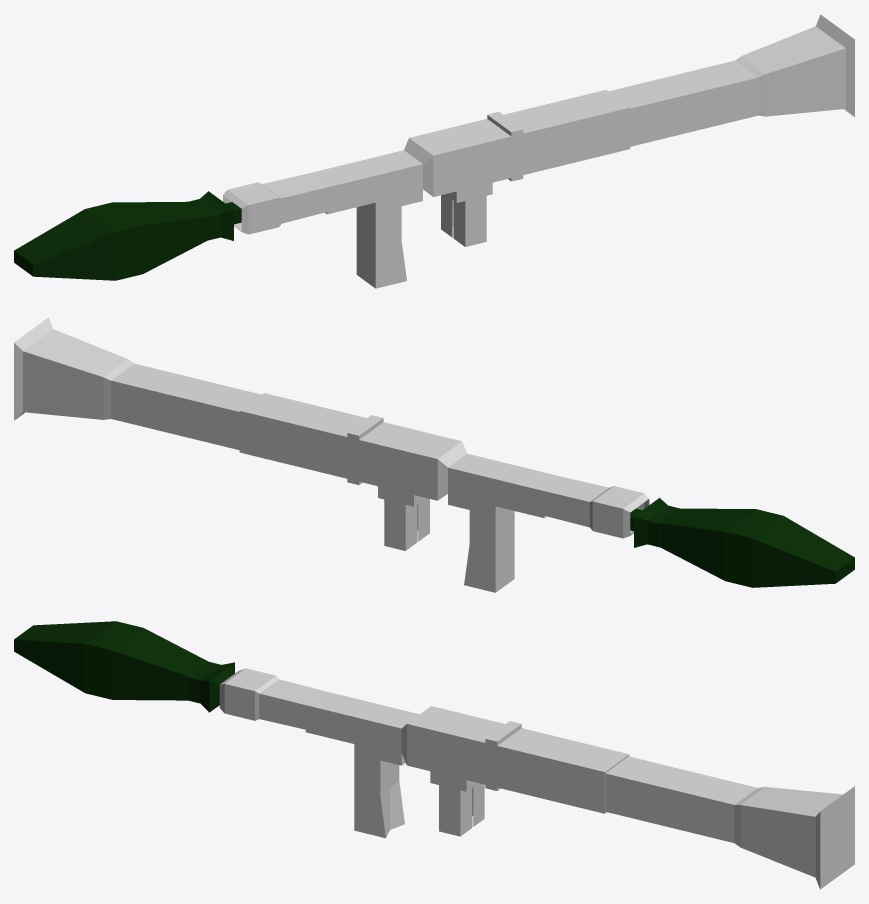
The model's file is launcher.obj.
The picture shows the model from 3 angles, top to bottom: view 1: azimuth 30°, elevation 25°; view 2: azimuth 150°, elevation 25°; view 3: azimuth 330°, elevation 25°; orthographic projection.
Parts seen in each view (by area): view 1: launcher.002, rocket; view 2: launcher.002, rocket; view 3: launcher.002, rocket.
Boxes of the visible parts, left/top/right/bottom form: launcher.002: left=223, top=14, right=854, bottom=288; rocket: left=14, top=191, right=241, bottom=280; launcher.002: left=14, top=317, right=649, bottom=592; rocket: left=630, top=497, right=854, bottom=587; launcher.002: left=219, top=668, right=854, bottom=889; rocket: left=14, top=621, right=234, bottom=712.
Size of the model in its own units: 3.5 by 0.5759 by 0.2597.
